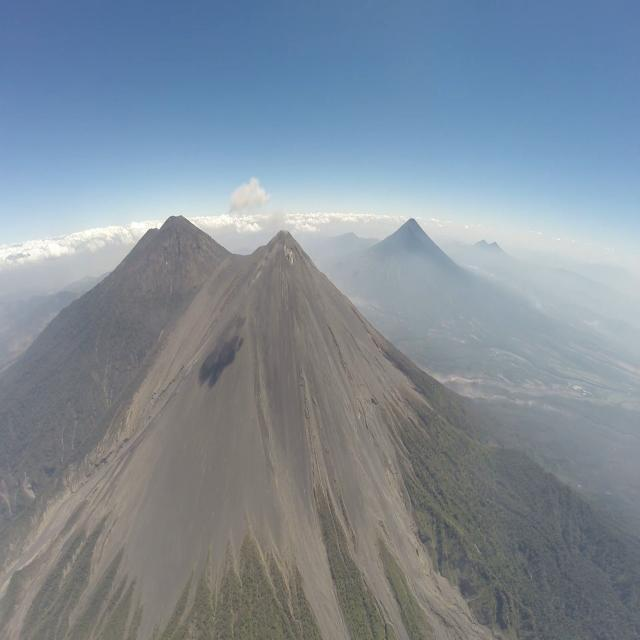Plume: (226, 177, 268, 216)
Summit: (251, 227, 315, 268)
